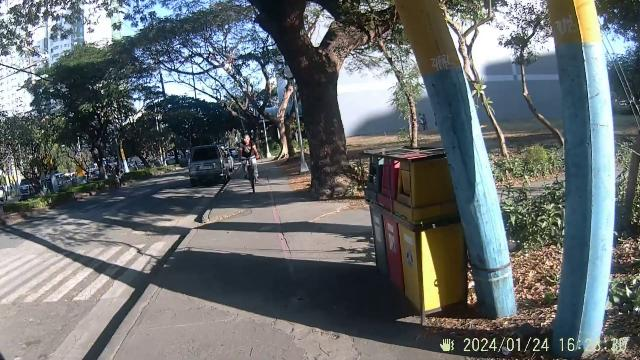cracked_pavement: (234, 284, 350, 360)
garbage: (366, 143, 468, 316)
tree: (278, 6, 366, 198)
